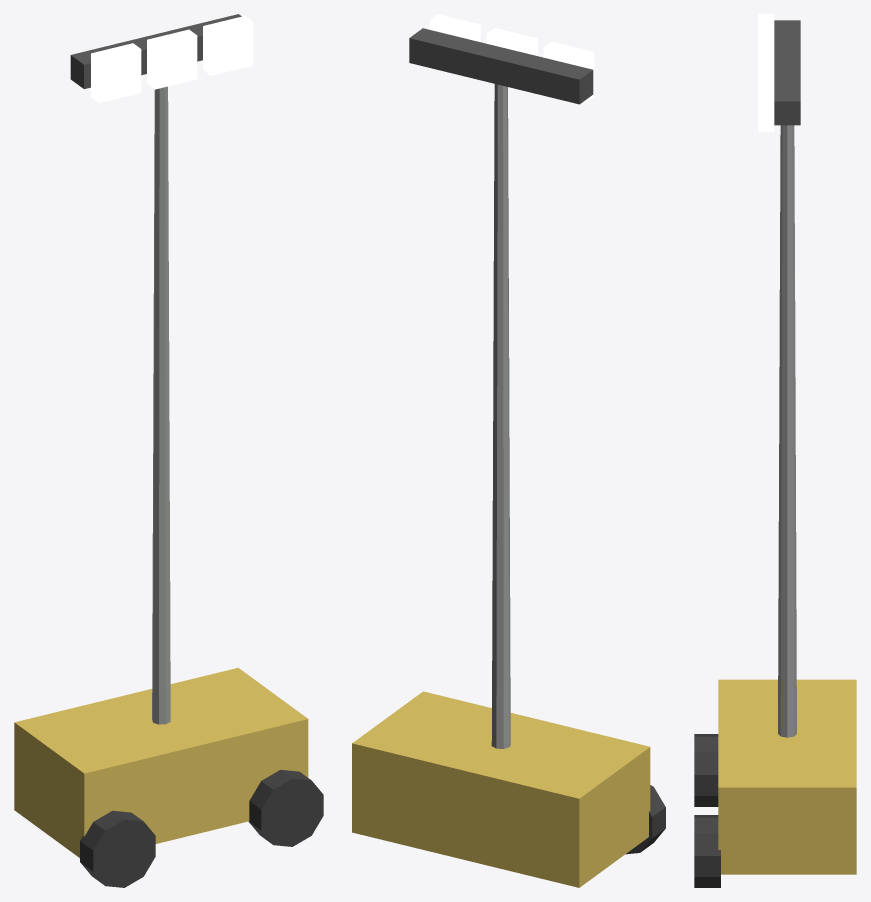
The model's file is LightTower.glb.
The picture shows the model from 3 angles, left to right: view 1: azimuth 30°, elevation 25°; view 2: azimuth 150°, elevation 25°; view 3: azimuth 270°, elevation 25°; orthographic projection. The views are drawn at different scales.
Parts seen in each view (by area): view 1: Trailer, Limb.067, Wheel.004, Wheel.005, Lamp, Lamp.001, Lamp.002, Lamp bar; view 2: Trailer, Limb.067, Lamp bar, Lamp, Lamp.001, Lamp.002, Wheel.004; view 3: Trailer, Limb.067, Lamp bar, Wheel.005, Wheel.004, Lamp.002, Lamp, Lamp.001.
Boxes of the visible parts, x1,y1,x2,y2 form: Trailer: [14, 667, 308, 857]; Limb.067: [152, 86, 170, 724]; Wheel.004: [80, 810, 155, 887]; Wheel.005: [248, 769, 323, 846]; Lamp: [91, 43, 141, 103]; Lamp.001: [147, 29, 197, 89]; Lamp.002: [203, 16, 253, 75]; Lamp bar: [70, 14, 241, 89]; Trailer: [352, 691, 650, 887]; Limb.067: [491, 84, 510, 748]; Lamp bar: [409, 28, 593, 104]; Lamp: [543, 42, 594, 102]; Lamp.001: [486, 28, 537, 55]; Lamp.002: [430, 14, 480, 41]; Wheel.004: [626, 785, 665, 854]; Trailer: [718, 679, 856, 874]; Limb.067: [778, 125, 796, 737]; Lamp bar: [774, 20, 800, 125]; Wheel.005: [694, 815, 720, 887]; Wheel.004: [694, 734, 718, 806]; Lamp.002: [758, 68, 774, 131]; Lamp: [758, 14, 774, 40]; Lamp.001: [758, 41, 774, 67].
Bounding box in the file's own units: 2.47 × 8.22 × 1.52.
